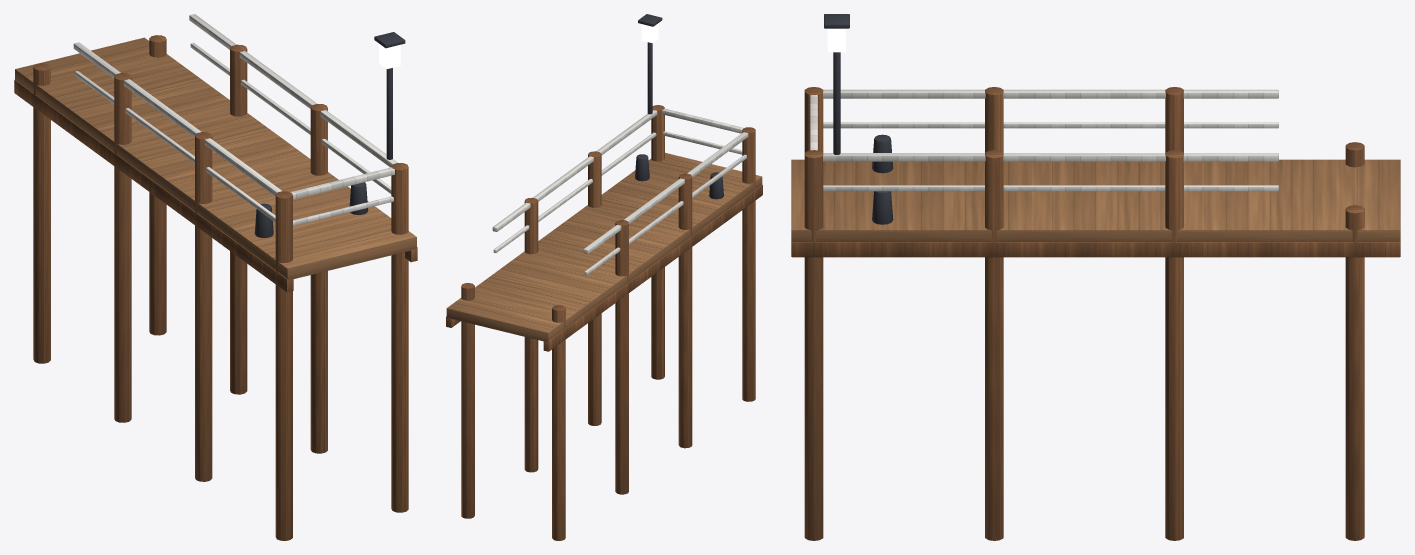
Rendered from dock.glb.
The picture shows the model from 3 angles, left to right: view 1: azimuth 30°, elevation 25°; view 2: azimuth 150°, elevation 25°; view 3: azimuth 270°, elevation 25°; orthographic projection. The views are drawn at different scales.
Visible parts, largest first — view 1: dock; view 2: dock; view 3: dock.
Boxes of the visible parts, x1,y1,x2,y2 form: dock: (14,14,417,540); dock: (446,14,762,540); dock: (791,14,1400,540).
Bounding box in the file's own units: 2.26 × 7.5 × 8.
Materials: 5 (5 with a texture image).
